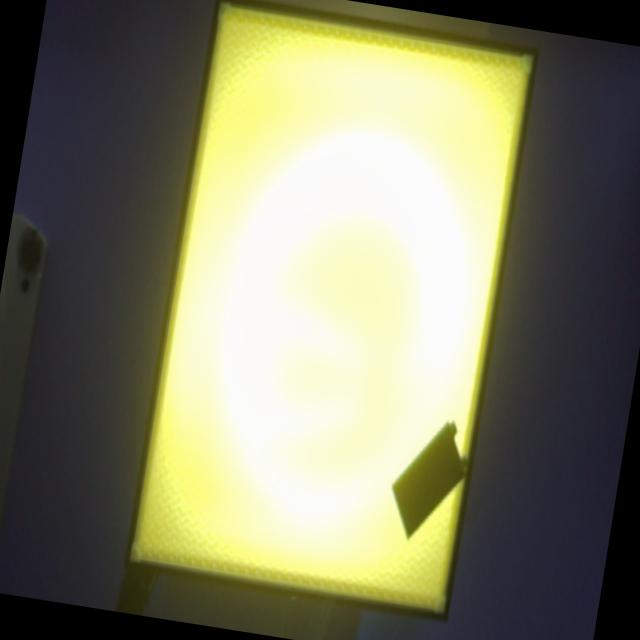bateria: (392, 423, 469, 541)
mesa: (124, 0, 540, 623)
